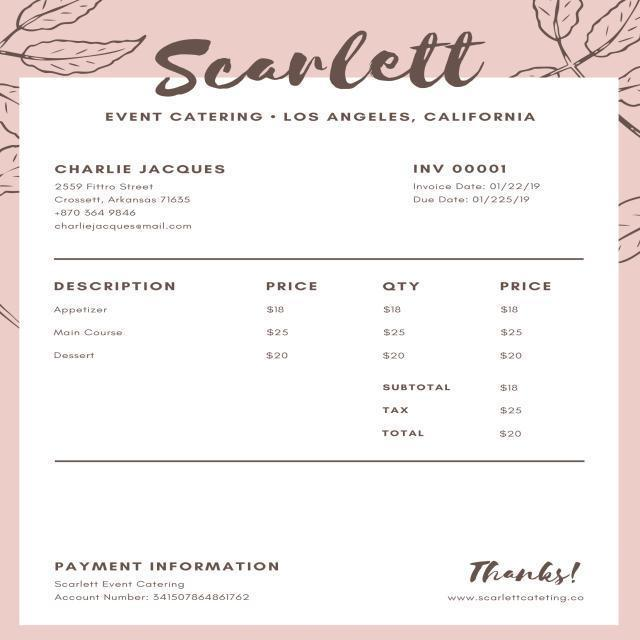paragraph: (152, 29, 487, 95), (52, 156, 232, 237), (52, 551, 282, 611), (375, 376, 542, 446), (443, 545, 596, 616), (99, 108, 537, 129), (409, 159, 549, 212)
table: (43, 270, 564, 367)
